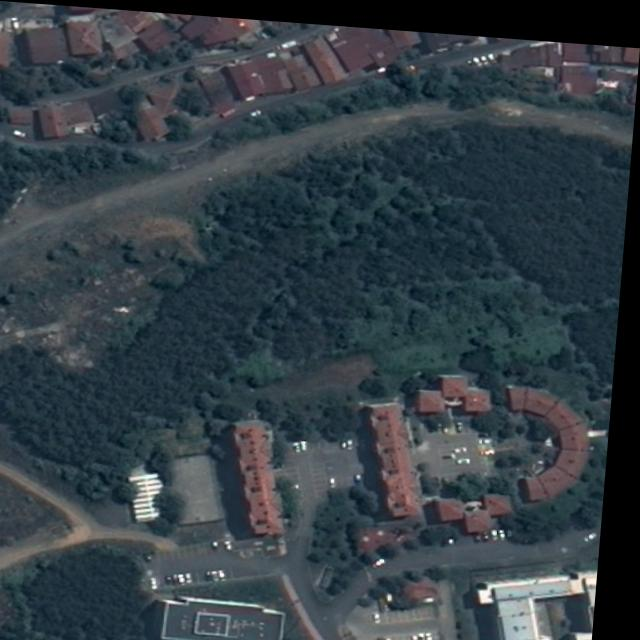Batiment: (477, 563, 604, 640), (513, 378, 596, 492), (224, 417, 294, 535), (364, 396, 430, 511), (171, 592, 296, 640), (432, 484, 521, 526), (330, 20, 401, 66), (420, 367, 497, 407), (370, 564, 447, 604), (230, 53, 295, 93), (181, 11, 260, 41), (40, 99, 98, 137), (306, 30, 348, 78), (25, 26, 70, 62), (138, 17, 179, 49), (285, 49, 322, 84), (66, 19, 103, 51), (139, 103, 171, 138), (0, 32, 14, 66), (114, 38, 140, 55)
